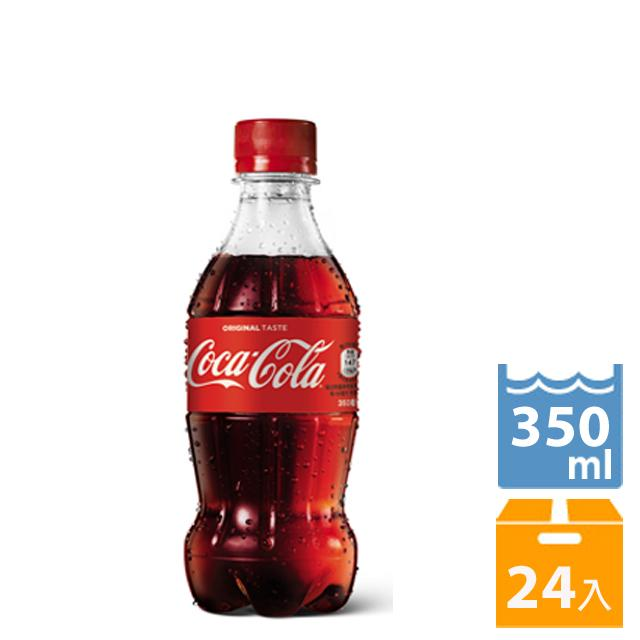plastic_bottle: (169, 114, 373, 615)
